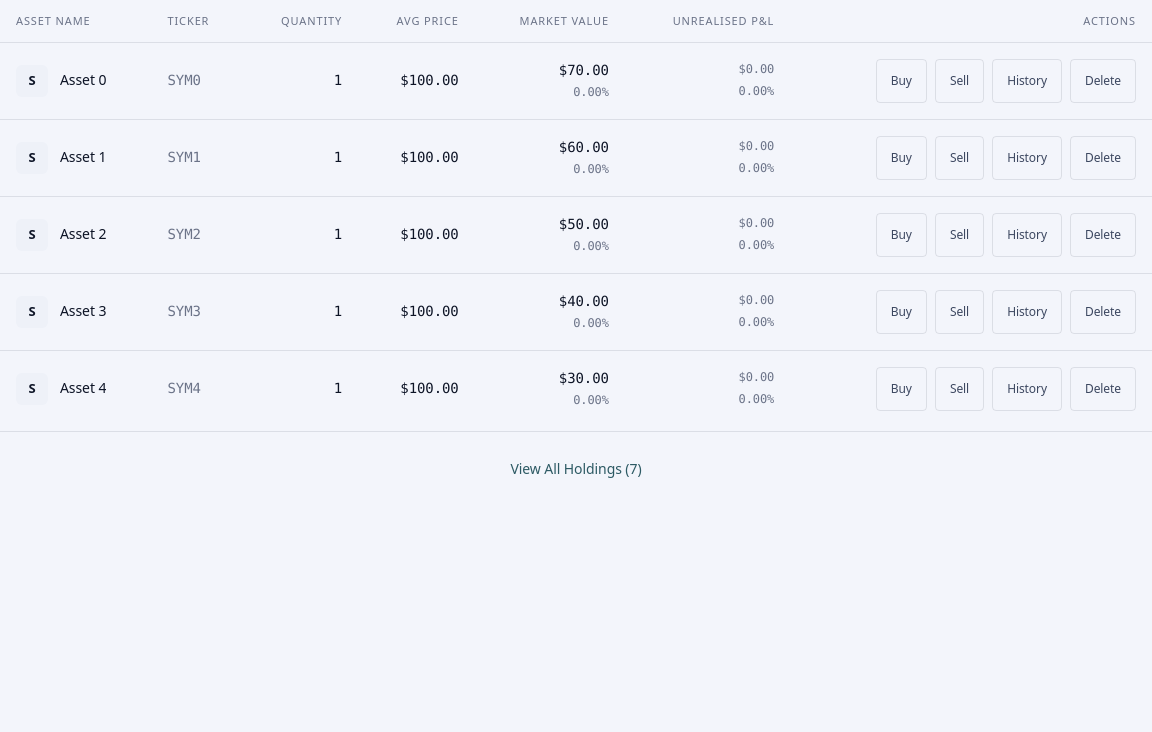
Test: TopAssetsTable › truncates to 5 rows and expands via "View All Holdings"
The width and height of the screenshot is (1152, 732).
Expected: the number of buttons "Delete" is 5, x1=1070 y1=59 x2=1136 y2=103; x1=1070 y1=136 x2=1136 y2=180; x1=1070 y1=213 x2=1136 y2=257; x1=1070 y1=290 x2=1136 y2=334; x1=1070 y1=367 x2=1136 y2=411
Click the button "View All Holdings (7)".
click(576, 470)  # box x1=494 y1=448 x2=658 y2=492
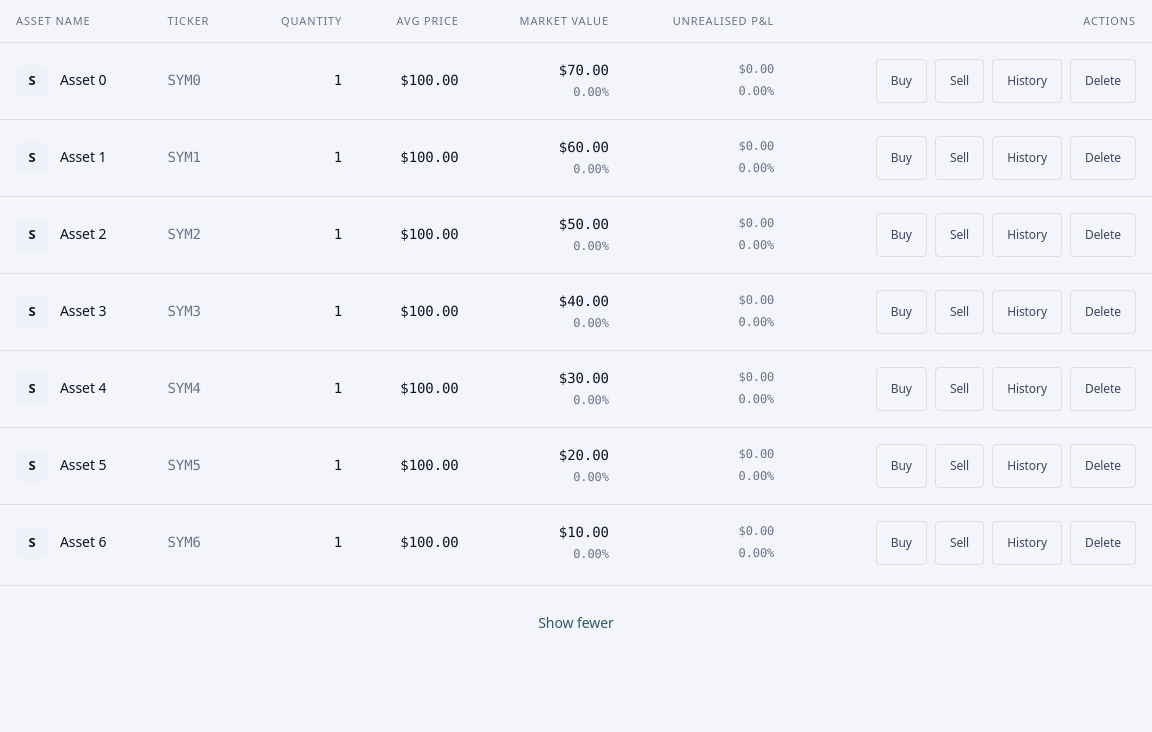
Expected: the number of buttons "Delete" is 7
Click the button "Show fewer".
click(576, 624)  # box x1=522 y1=602 x2=630 y2=646
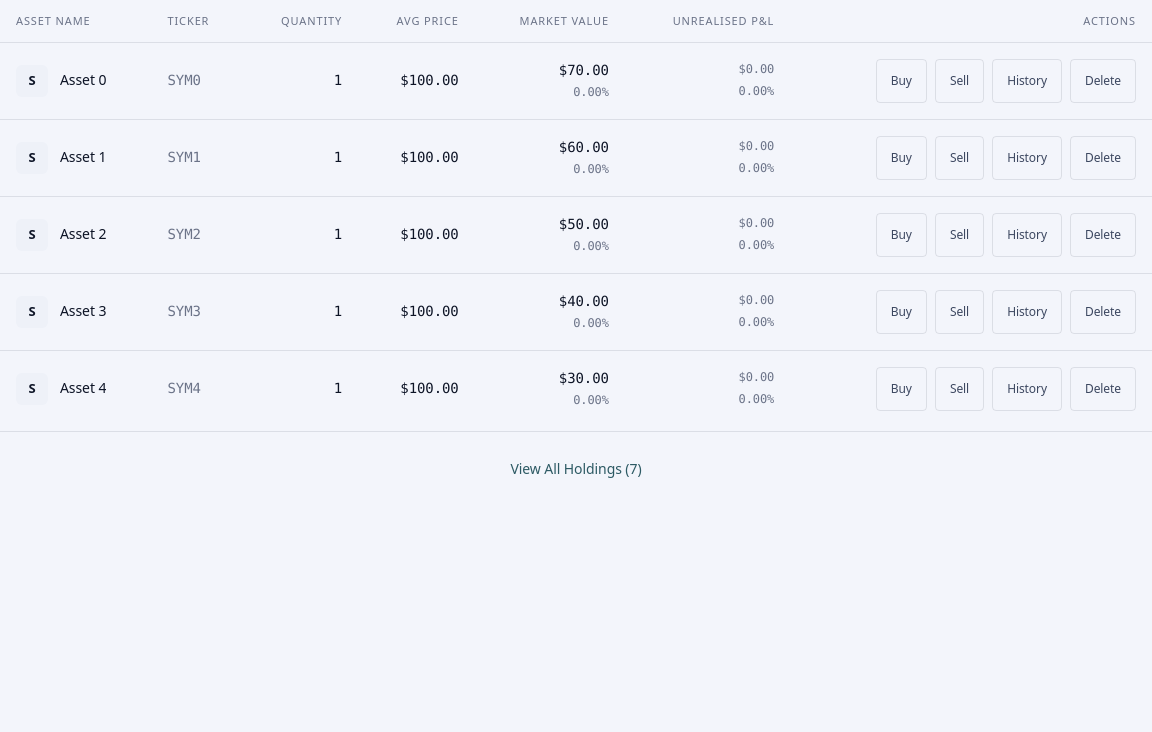
Expected: the number of buttons "Delete" is 5, x1=1070 y1=59 x2=1136 y2=103; x1=1070 y1=136 x2=1136 y2=180; x1=1070 y1=213 x2=1136 y2=257; x1=1070 y1=290 x2=1136 y2=334; x1=1070 y1=367 x2=1136 y2=411
